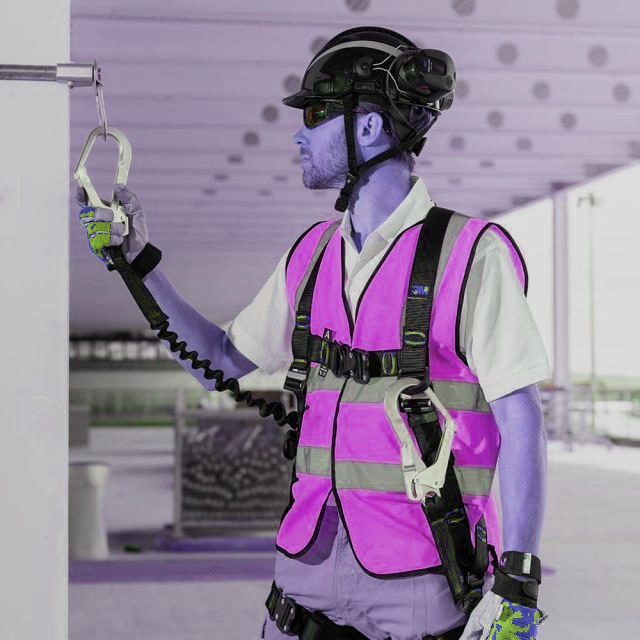safety belt: (200, 198, 524, 609)
